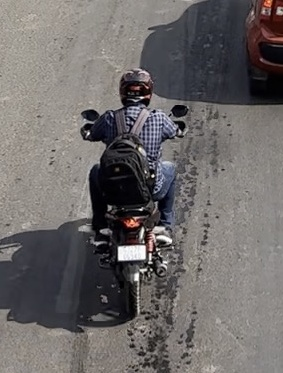BikeWithRider: (73, 63, 193, 321)
Helmet: (112, 63, 159, 110)
